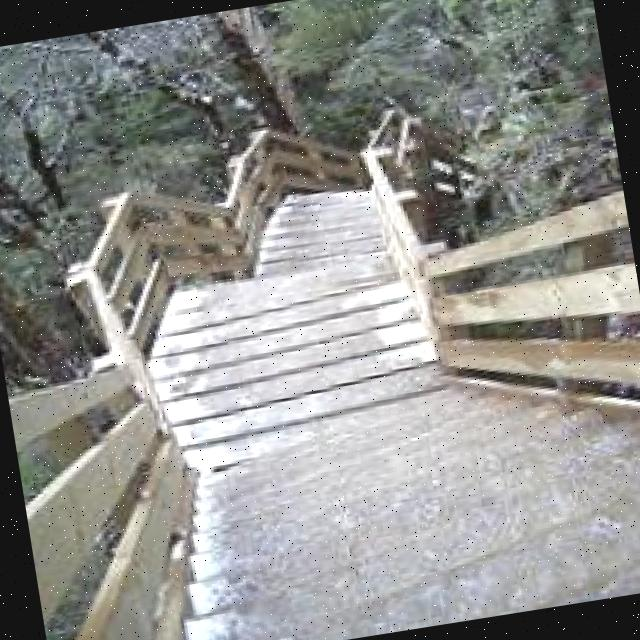stairs: (16, 100, 640, 640)
